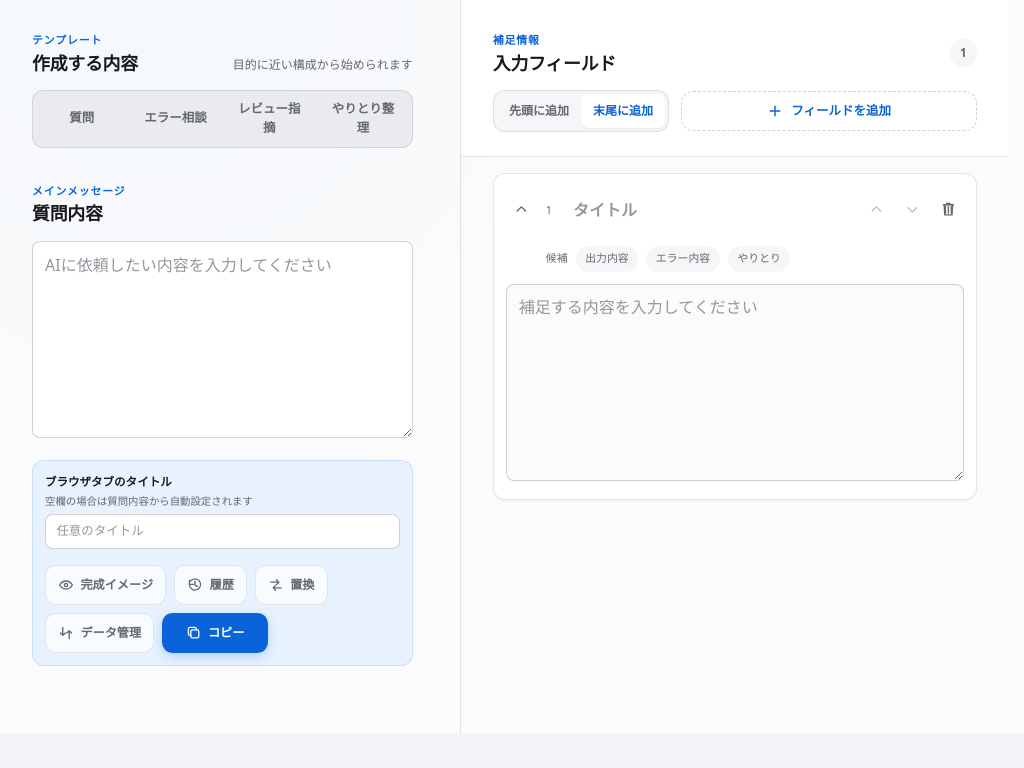
it: PromptFormComponent › フィールドを折りたたむと内容が非表示になる
expect the element with class "field-content" is shown: met, box [494,284,976,499]
Click the button with class "toggle-btn". click: (522, 210)
box: [506,194,538,226]
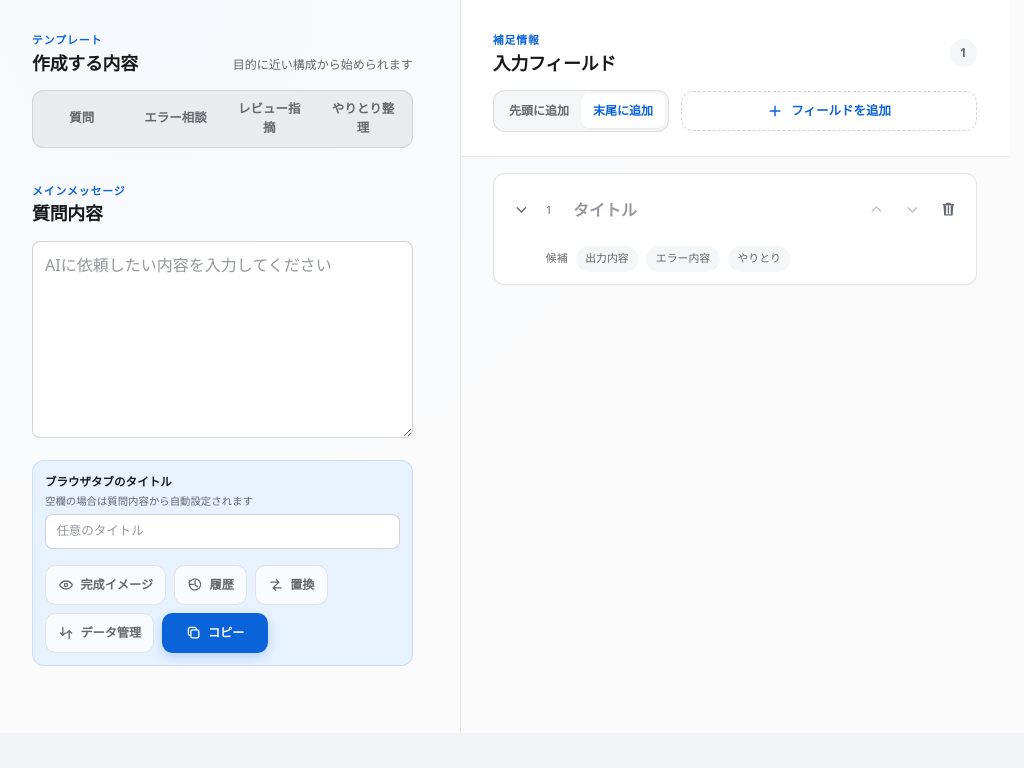
expect the text box with class "field-content" is gone: met
expect the button with class "toggle-btn" is collapsed: met, box [506,194,538,226]
